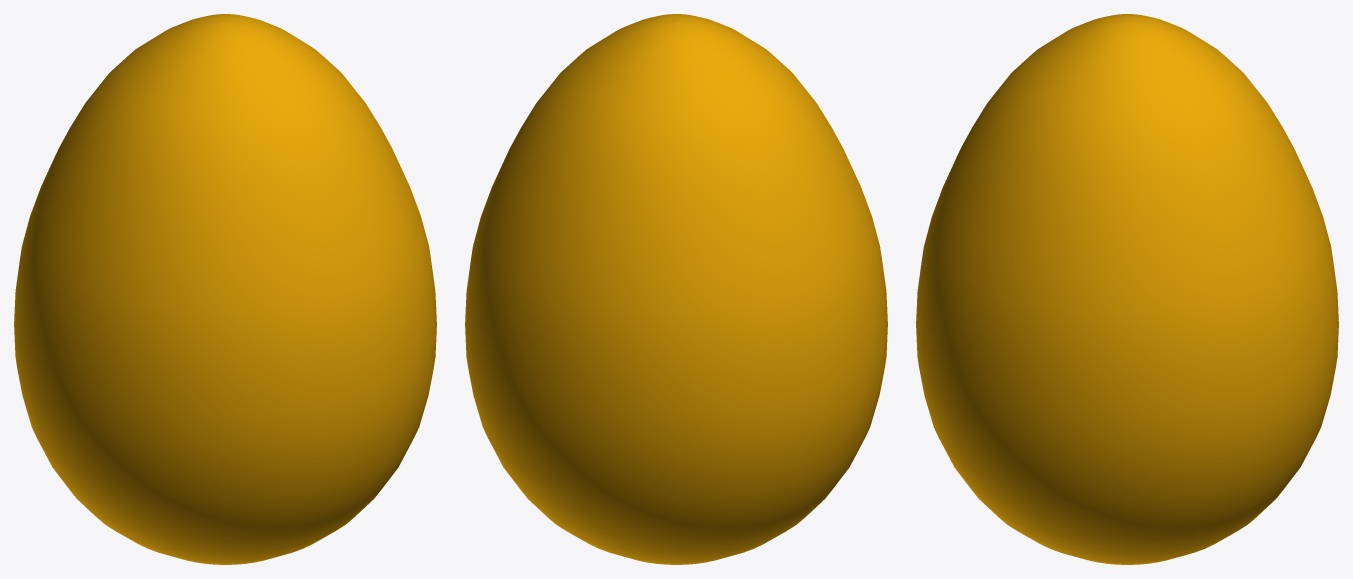
The model's file is EggGold.fbx.
3 views of the same model, side by side, from view 1: azimuth 30°, elevation 25°; view 2: azimuth 150°, elevation 25°; view 3: azimuth 270°, elevation 25° (orthographic).
Parts seen in each view (by area): view 1: EggGold; view 2: EggGold; view 3: EggGold.
Boxes of the visible parts, x1,y1,x2,y2 form: EggGold: (14,14,436,564); EggGold: (465,14,887,564); EggGold: (916,14,1338,564).
Bounding box in the file's own units: 61.19 × 83.14 × 61.2.
